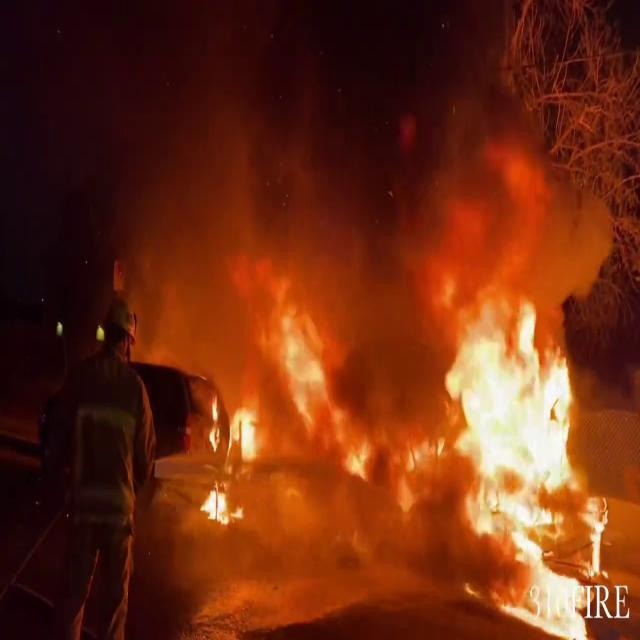Fire: (398, 258, 622, 632), (194, 272, 394, 534), (195, 390, 264, 526)
Smoke: (91, 0, 583, 318)
